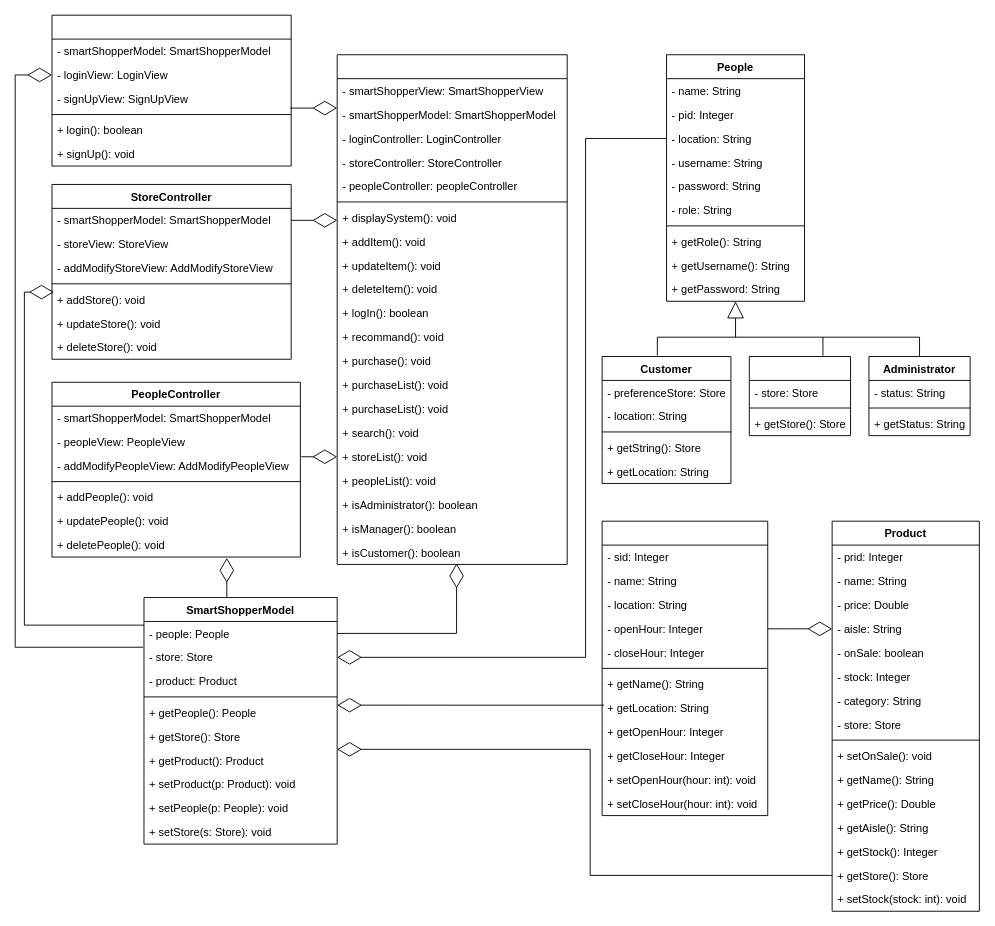
This 995x926 diagram has some shape labels left out. Each missing label, with the box of its shape:
LoginController: (51, 14, 291, 166)
Manager: (748, 356, 851, 436)
SmartShopperController: (336, 54, 567, 564)
Store: (601, 520, 768, 816)
